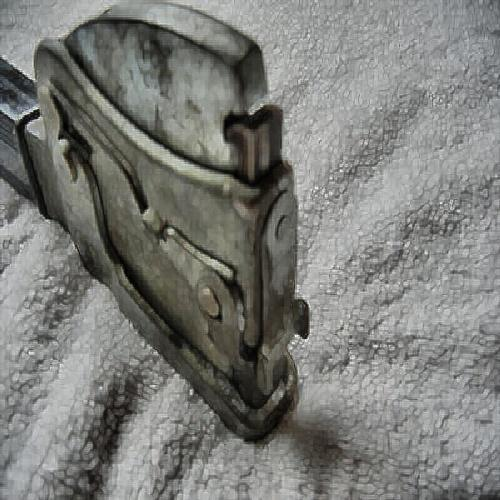stapler: (33, 26, 324, 434)
